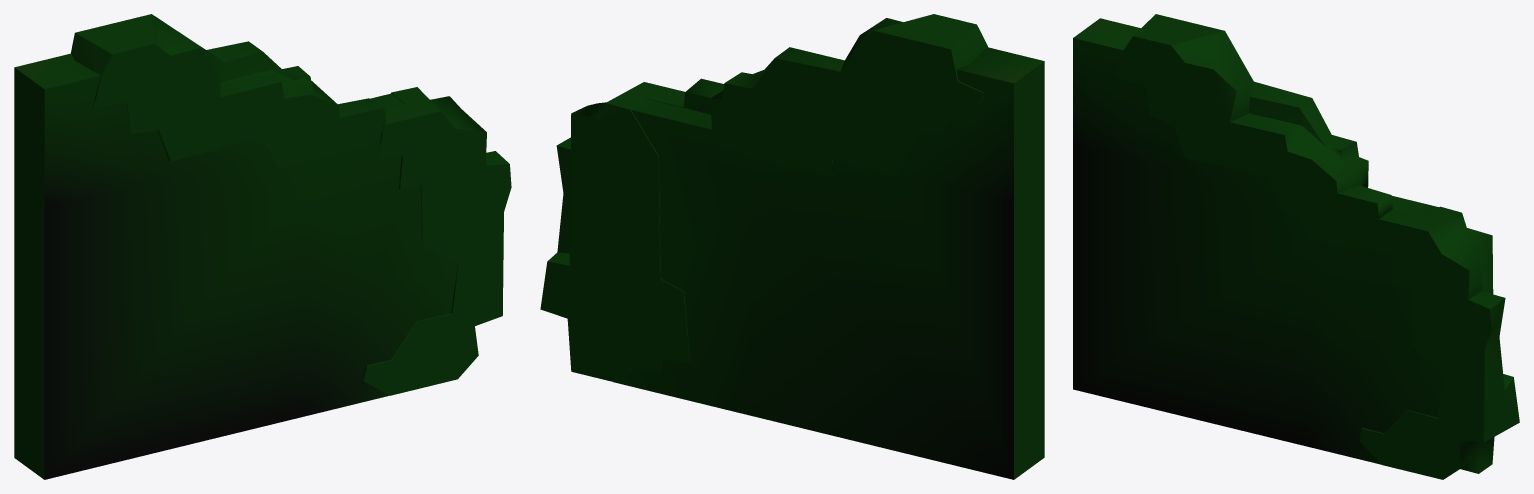
Rendered from DBK_Brick_WinSmall_End.fbx.
The picture shows the model from 3 angles, left to right: view 1: azimuth 30°, elevation 25°; view 2: azimuth 150°, elevation 25°; view 3: azimuth 330°, elevation 25°; orthographic projection. The views are drawn at different scales.
Parts seen in each view (by area): view 1: DBK_Brick_WinSmall_End; view 2: DBK_Brick_WinSmall_End; view 3: DBK_Brick_WinSmall_End.
Boxes of the visible parts, x1,y1,x2,y2 form: DBK_Brick_WinSmall_End: [14, 14, 511, 479]; DBK_Brick_WinSmall_End: [540, 14, 1044, 479]; DBK_Brick_WinSmall_End: [1073, 14, 1519, 479].
Bounding box in the file's own units: 179 × 150 × 21.15.
